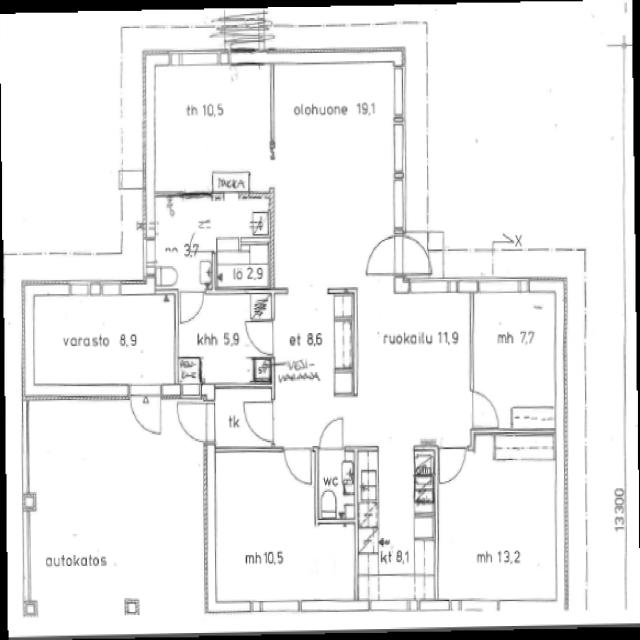door: (126, 389, 206, 442), (314, 434, 357, 526), (396, 230, 437, 282), (128, 384, 163, 439), (239, 396, 277, 446), (362, 231, 400, 280), (175, 396, 211, 443), (242, 314, 278, 358), (468, 384, 500, 432), (282, 444, 315, 488), (435, 444, 468, 488), (316, 412, 350, 454), (176, 286, 206, 328)
window: (388, 113, 409, 238), (19, 498, 40, 609), (168, 46, 228, 68), (388, 65, 409, 121), (251, 598, 306, 615)
zone: (420, 8, 619, 269), (1, 8, 130, 270), (208, 447, 348, 610), (436, 436, 560, 614), (353, 286, 473, 446), (144, 56, 273, 196), (25, 282, 176, 398), (470, 282, 560, 433), (194, 190, 271, 288), (214, 231, 272, 290), (316, 448, 357, 526), (412, 448, 436, 509)
